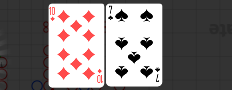10D: (96, 68, 104, 85)
7C: (154, 66, 161, 84)
